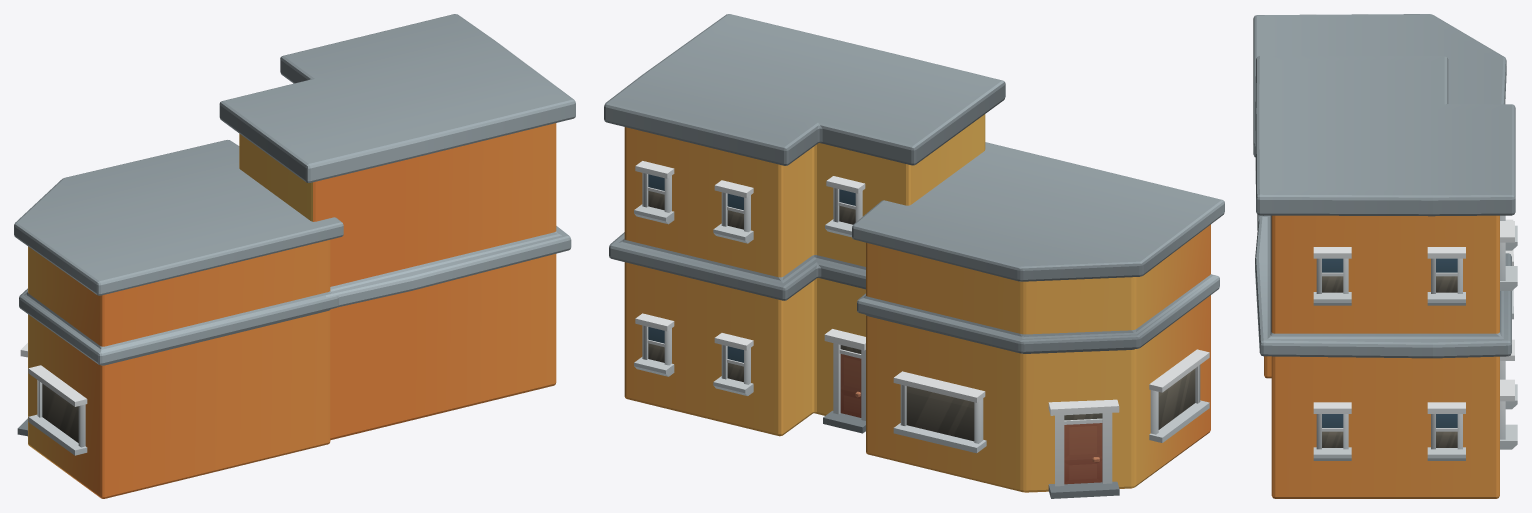
The model's file is EDIFICIO AMARILLO.fbx.
3 renders of one model, left to right at view 1: azimuth 30°, elevation 25°; view 2: azimuth 150°, elevation 25°; view 3: azimuth 270°, elevation 25°, orthographic. The views are drawn at different scales.
Visible parts, largest first — view 1: Cube; view 2: Cube; view 3: Cube.
Part boxes in pixels (left/top/right/bottom): Cube: left=14, top=14, right=575, bottom=498; Cube: left=604, top=14, right=1224, bottom=498; Cube: left=1253, top=14, right=1517, bottom=498.
Bounding box in the file's own units: 3173 × 1800 × 1387.
Materials: 2 (2 with a texture image).
